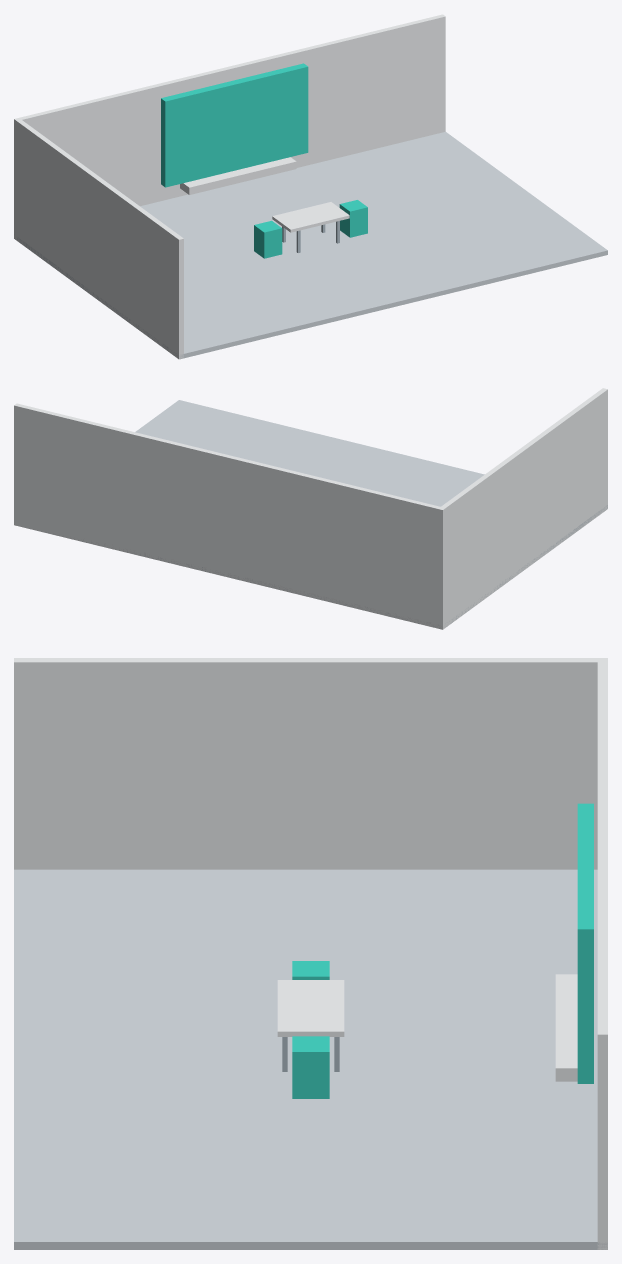
3 views of the same model, one above another, from view 1: azimuth 30°, elevation 25°; view 2: azimuth 150°, elevation 25°; view 3: azimuth 270°, elevation 25° (orthographic). The views are drawn at different scales.
Parts seen in each view (by area): view 1: Exhibition Booth Concept; view 2: Exhibition Booth Concept; view 3: Exhibition Booth Concept.
Boxes of the visible parts, bbox=[...] form: Exhibition Booth Concept: bbox=[14, 14, 607, 359]; Exhibition Booth Concept: bbox=[14, 388, 607, 629]; Exhibition Booth Concept: bbox=[14, 658, 607, 1249].
Size of the model in its own units: 12 by 3.2 by 8.
